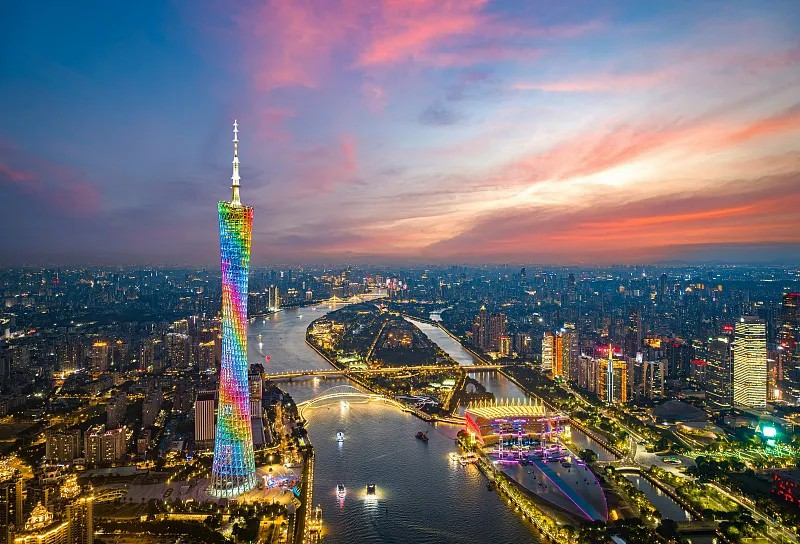Canton: (210, 118, 257, 496)
